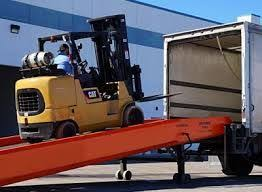Pallet Jack: (14, 13, 183, 140)
Yard Ramp: (6, 117, 226, 183)
